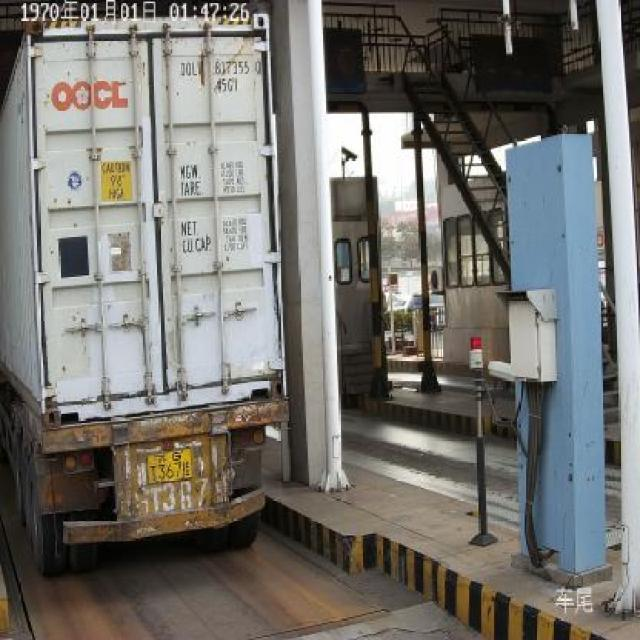ISO: (212, 76, 239, 92)
container_number: (172, 58, 262, 76)
